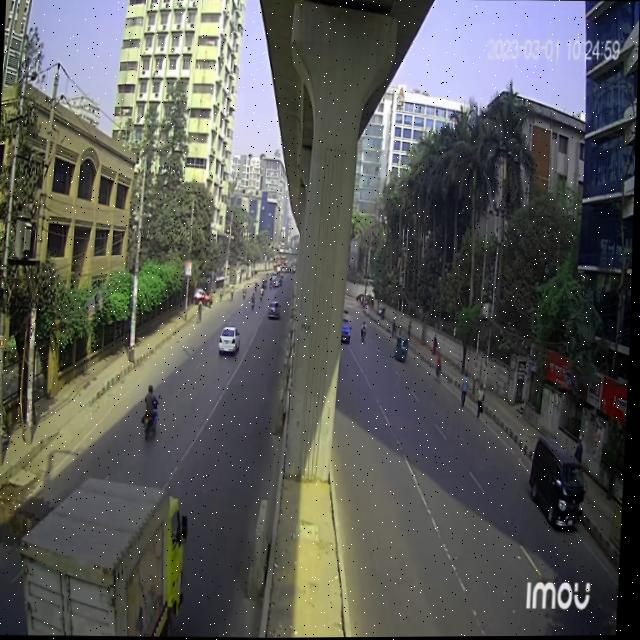cng: (396, 332, 412, 362)
